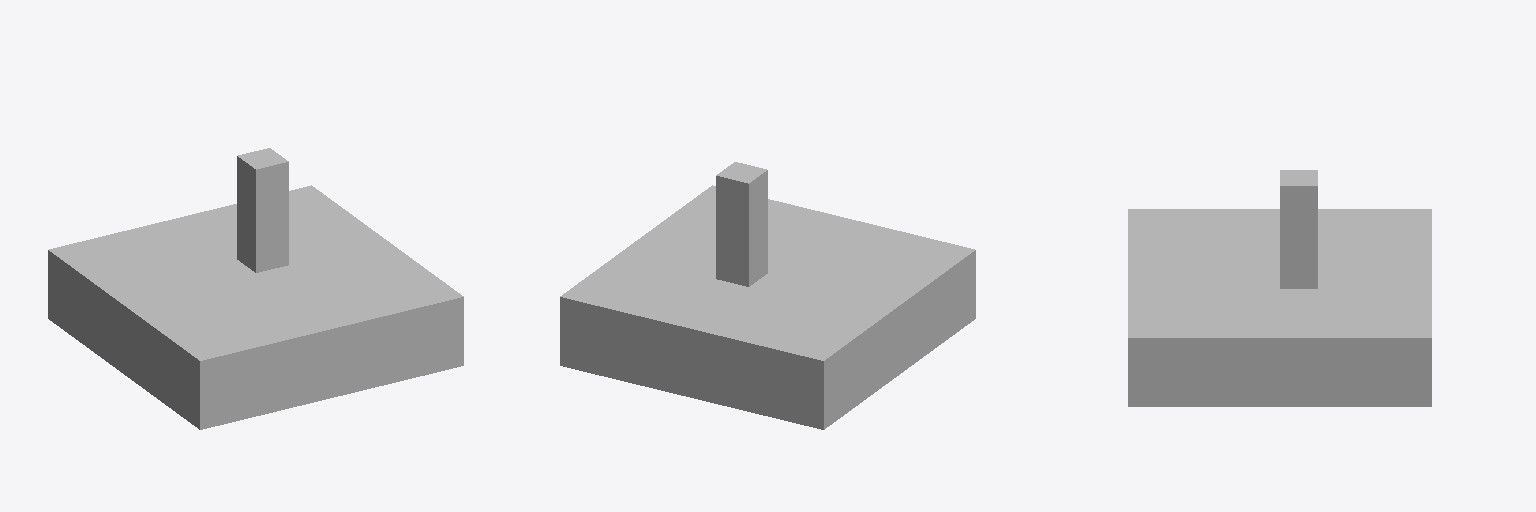
File: crossroad.obj
The picture shows the model from 3 angles: view 1: azimuth 30°, elevation 25°; view 2: azimuth 150°, elevation 25°; view 3: azimuth 270°, elevation 25°; orthographic projection.
Visible parts, largest first — view 1: object 1; view 2: object 1; view 3: object 1.
Boxes of the visible parts, x1,y1,x2,y2 form: object 1: [48, 148, 463, 429]; object 1: [560, 162, 975, 429]; object 1: [1128, 170, 1431, 406].
Bounding box in the file's own units: 0.8 × 0.5 × 0.8.